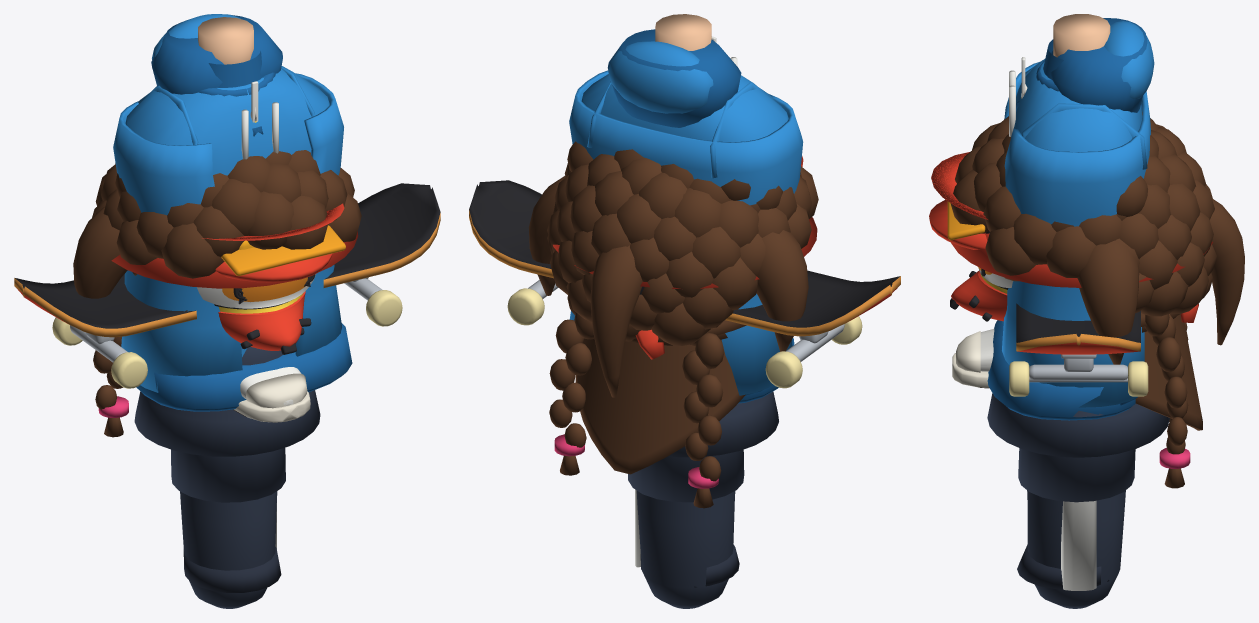
File: wardrobe.glb
3 renders of one model, left to right at view 1: azimuth 30°, elevation 25°; view 2: azimuth 150°, elevation 25°; view 3: azimuth 270°, elevation 25°, orthographic.
Parts seen in each view (by area): view 1: torso__hoodie, torso__jacket, hair__afro, deck__std, thigh_L__skirt, thigh_L__joggers, helmet__fullface, thigh_L__shorts, shoe_L__high, hair__pigtails, shin_L__jeans, helmet__farm (+6 smaller); view 2: hair__afro, torso__hoodie, deck__std, torso__jacket, hair__long, hair__braids, thigh_L__joggers, hair__pigtails, hair__ponytail, thigh_L__shorts, thigh_L__skirt, hair__puffs (+2 smaller); view 3: hair__afro, torso__hoodie, torso__jacket, thigh_L__joggers, deck__std, thigh_L__skirt, thigh_L__shorts, hair__pigtails, hair__braids, helmet__fullface, hair__ponytail, hair__long (+8 smaller).
Part boxes in pixels (bbox=[...]): torso__hoodie: bbox=[125, 14, 352, 411]; torso__jacket: bbox=[113, 73, 343, 392]; hair__afro: bbox=[92, 150, 361, 278]; deck__std: bbox=[14, 183, 440, 388]; thigh_L__skirt: bbox=[134, 346, 320, 456]; thigh_L__joggers: bbox=[180, 491, 277, 608]; helmet__fullface: bbox=[197, 203, 344, 354]; thigh_L__shorts: bbox=[171, 447, 285, 502]; shoe_L__high: bbox=[233, 367, 310, 422]; hair__pigtails: bbox=[73, 207, 127, 298]; shin_L__jeans: bbox=[183, 547, 281, 592]; helmet__farm: bbox=[221, 225, 345, 275]; hair__afro: bbox=[547, 149, 818, 345]; torso__hoodie: bbox=[581, 14, 794, 403]; deck__std: bbox=[469, 180, 900, 388]; torso__jacket: bbox=[569, 70, 803, 395]; hair__long: bbox=[575, 338, 745, 474]; hair__braids: bbox=[549, 295, 724, 508]; thigh_L__joggers: bbox=[635, 489, 735, 608]; hair__pigtails: bbox=[528, 176, 808, 351]; hair__ponytail: bbox=[590, 245, 642, 397]; thigh_L__shorts: bbox=[628, 449, 744, 502]; thigh_L__skirt: bbox=[668, 391, 778, 457]; hair__puffs: bbox=[567, 141, 782, 209]; hair__afro: bbox=[950, 112, 1216, 316]; torso__hoodie: bbox=[987, 14, 1154, 420]; torso__jacket: bbox=[1002, 62, 1150, 407]; thigh_L__joggers: bbox=[1027, 490, 1125, 608]; deck__std: bbox=[1009, 303, 1148, 396]; thigh_L__skirt: bbox=[987, 393, 1169, 457]; thigh_L__shorts: bbox=[1018, 448, 1135, 502]; hair__pigtails: bbox=[1077, 240, 1139, 364]; hair__braids: bbox=[1144, 314, 1190, 488]; helmet__fullface: bbox=[931, 152, 1013, 321]; hair__ponytail: bbox=[1210, 198, 1244, 345]; hair__long: bbox=[1135, 314, 1202, 430].
Bounding box in the file's own units: 0.8 × 1.07 × 0.5322.
